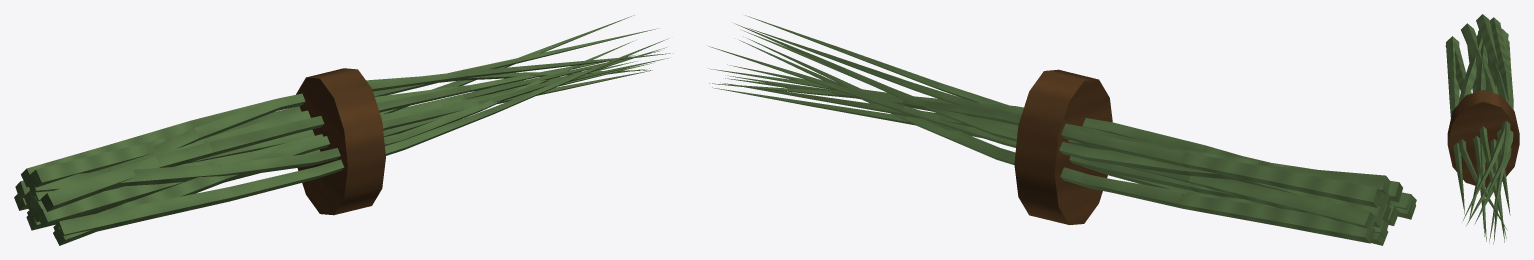
The model's file is underworld-resource-spire-fibre.glb.
3 renders of one model, left to right at view 1: azimuth 30°, elevation 25°; view 2: azimuth 150°, elevation 25°; view 3: azimuth 270°, elevation 25°, orthographic. The views are drawn at different scales.
Visible parts, largest first — view 1: fibres, tie; view 2: fibres, tie; view 3: fibres, tie.
Boxes of the visible parts, <box> form: fibres: <box>14,15,673,245</box>; tie: <box>296,68,385,215</box>; fibres: <box>709,15,1416,245</box>; tie: <box>1014,69,1112,224</box>; fibres: <box>1445,14,1513,244</box>; tie: <box>1447,90,1519,187</box>.
Size of the model in its own units: 0.822 by 0.17 by 0.1314.
Materials: 2 (2 with a texture image).
